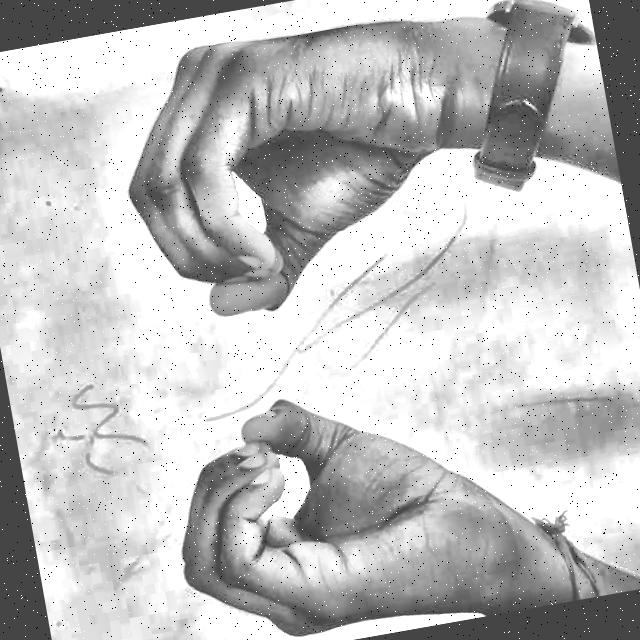Bisharga: (61, 0, 535, 640)
